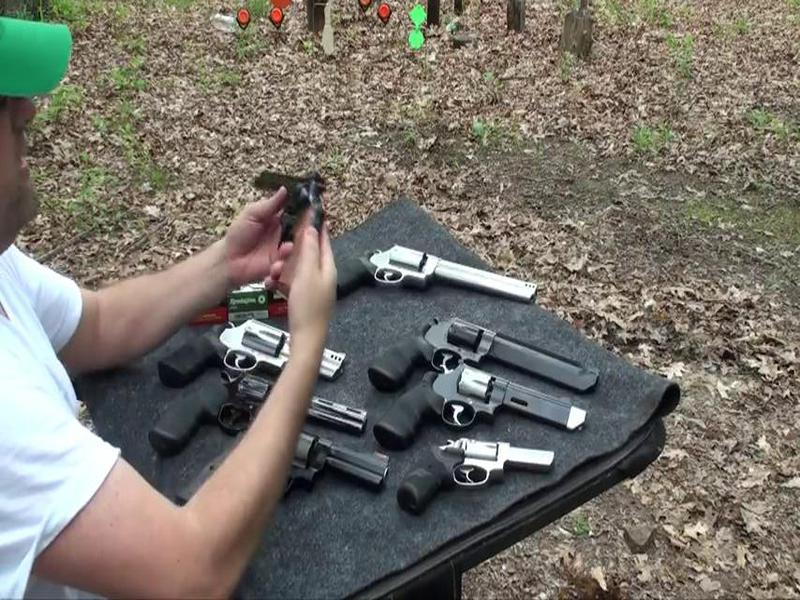Revolver: (253, 154, 329, 300)
